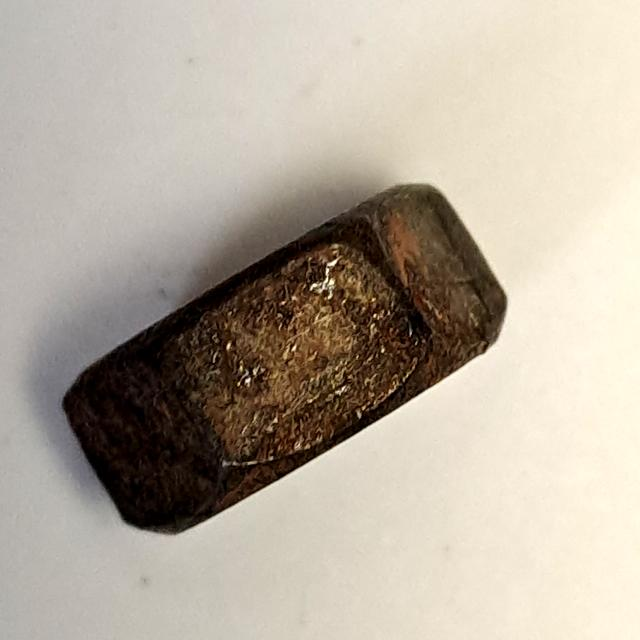Side_Rust: (51, 168, 527, 553)
